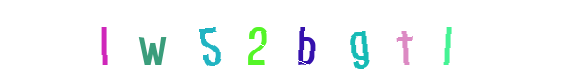2: (251, 0, 331, 80)
5: (217, 0, 297, 80)
B: (263, 0, 343, 80)
G: (266, 0, 346, 80)
L: (64, 0, 144, 80), (280, 0, 360, 80)
T: (276, 0, 356, 80)
W: (112, 0, 192, 80)
